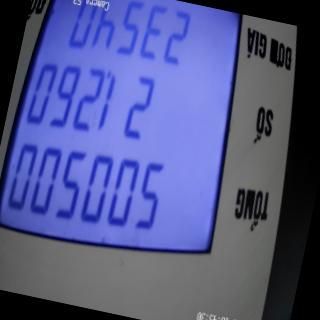screen: (0, 0, 263, 287)
